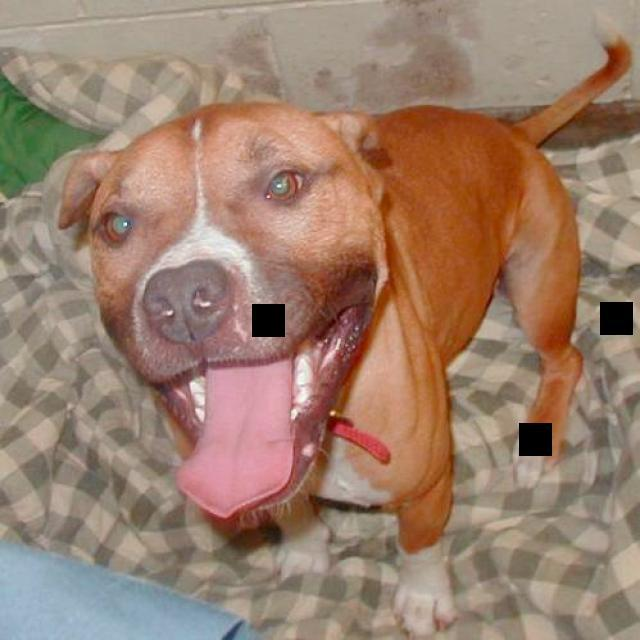adult_dog: (52, 21, 638, 635)
